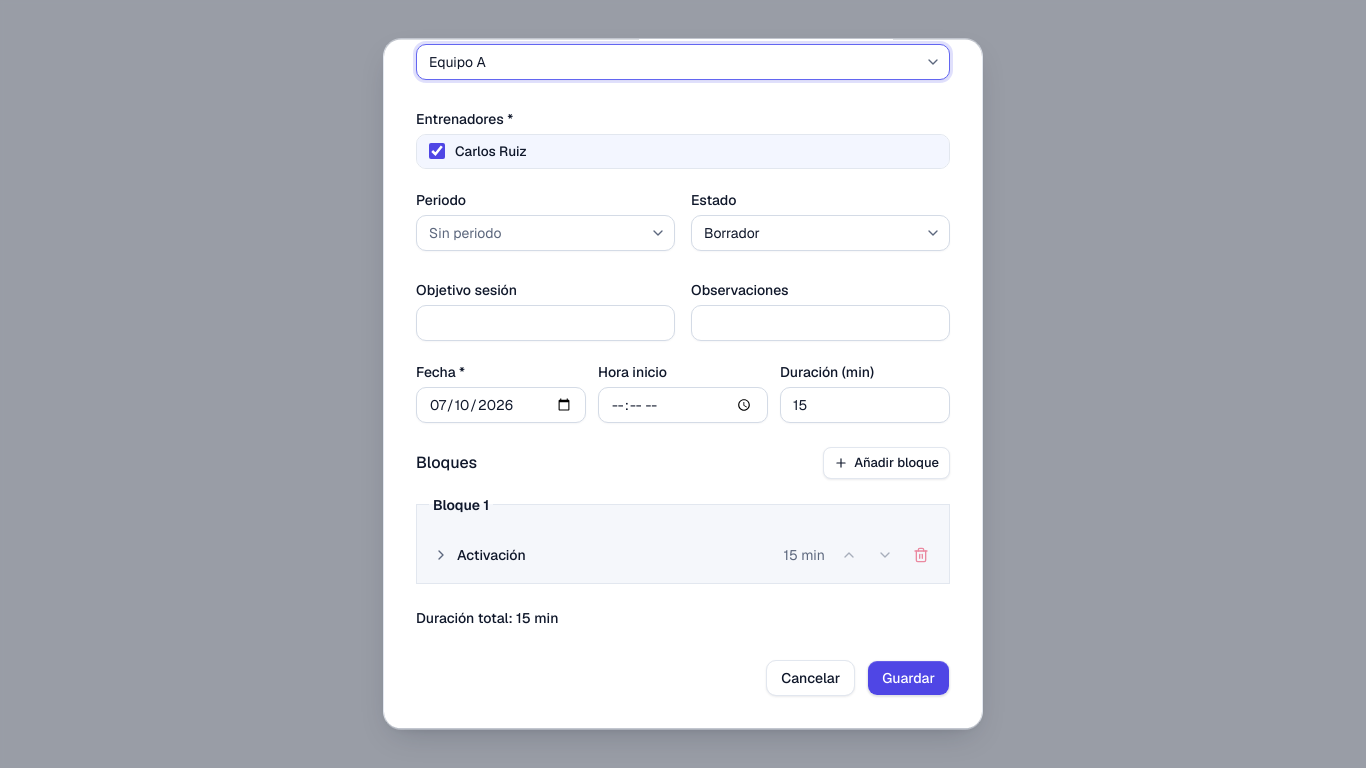
Test: SesionForm › modo edición: conserva el diálogo y no guarda bloques si falla la actualización
(page scrolled)
Expected: the text "Duración total: 15 min" is shown, left=416, top=609, right=558, bottom=627
Click the button "Guardar": (909, 678) left=867, top=660, right=950, bottom=696
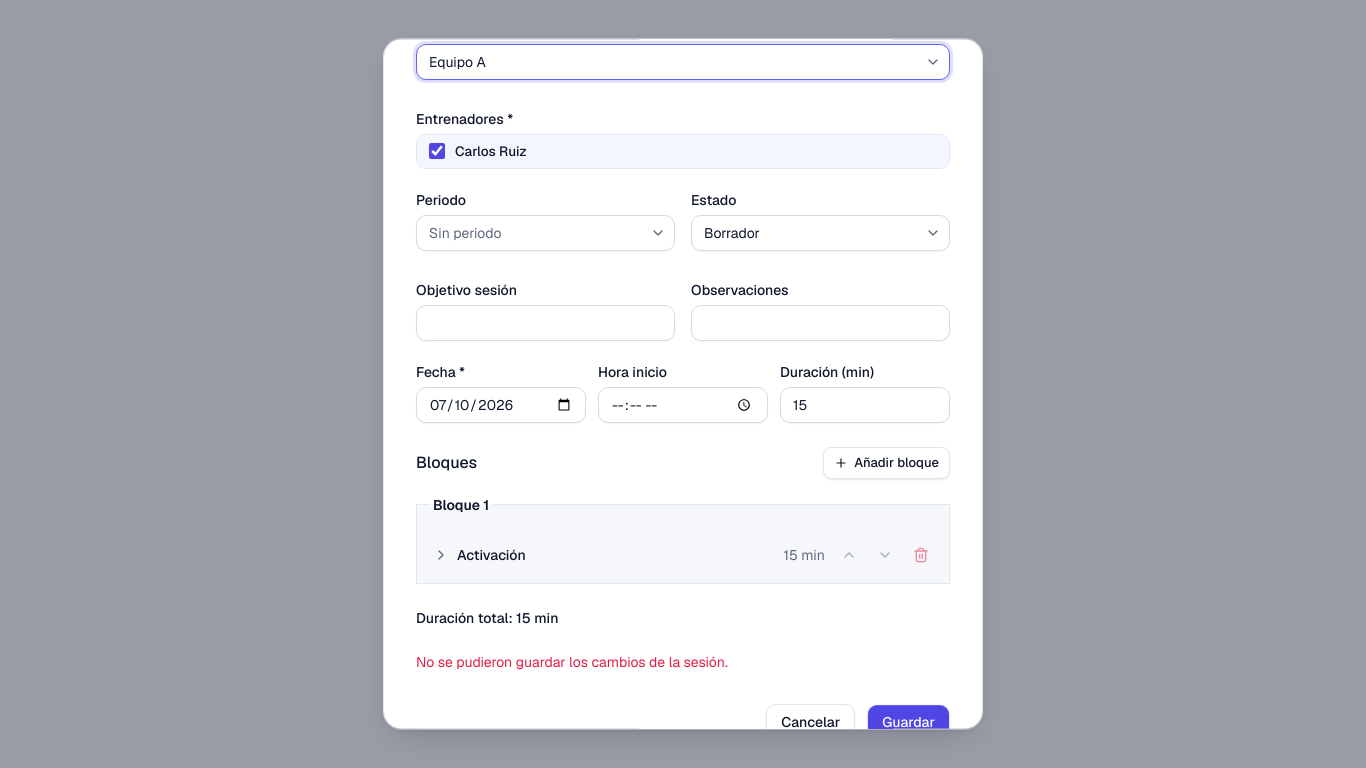
Result: the text "No se pudieron guardar los cambios de la sesión." is shown at left=416, top=653, right=728, bottom=671
